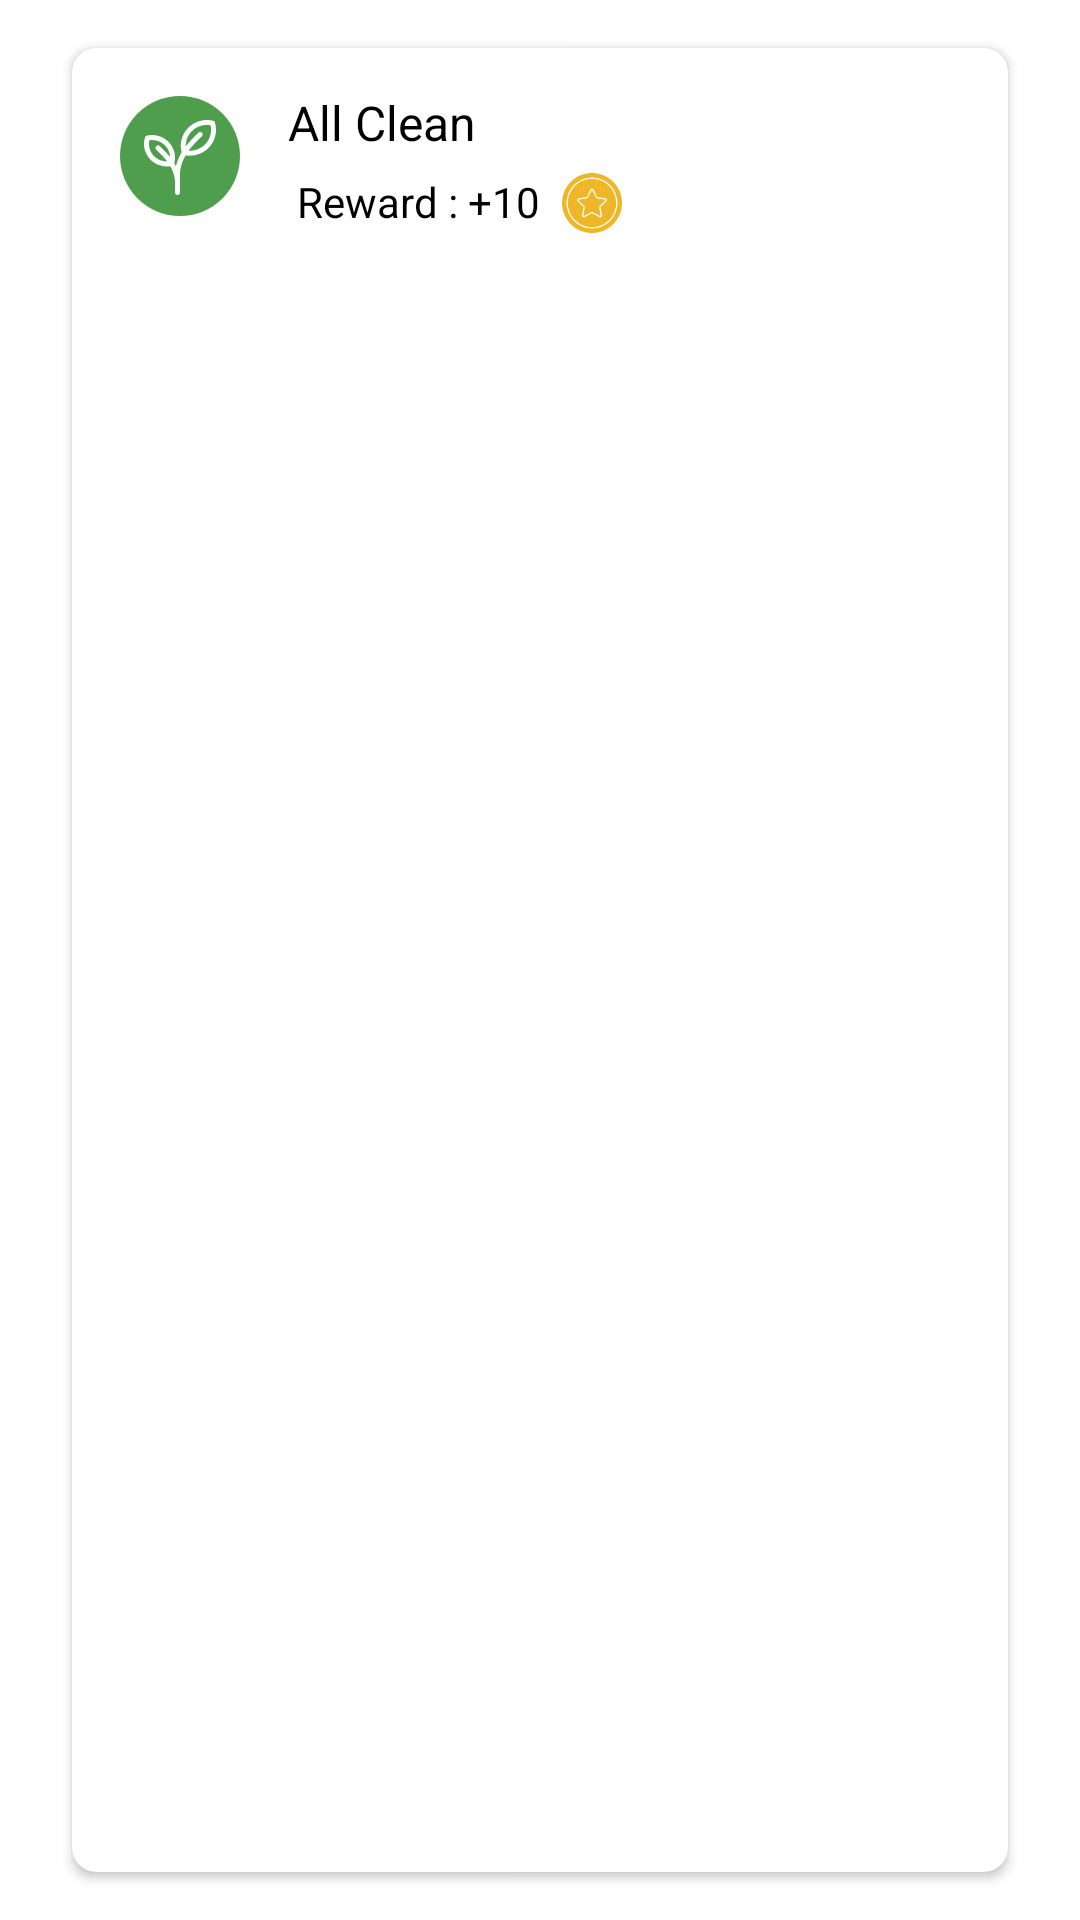

Named icons in this screenshot (1080×1920) and their bounding boxes, (x1, y1, x2, y2):
leafgoals: (120, 96, 240, 216)
